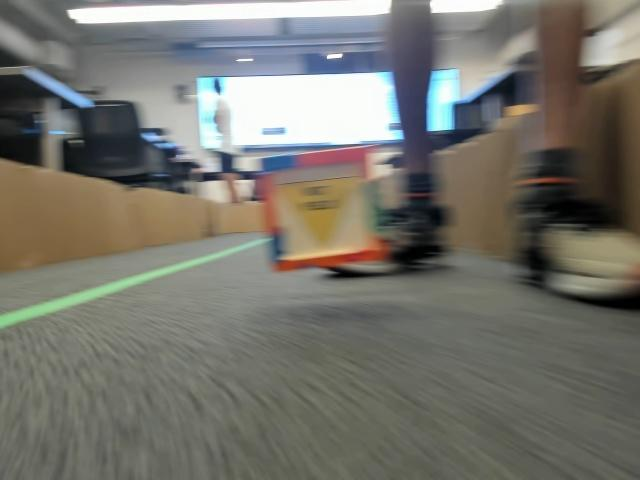Do Not Yield: (275, 185, 355, 248)
